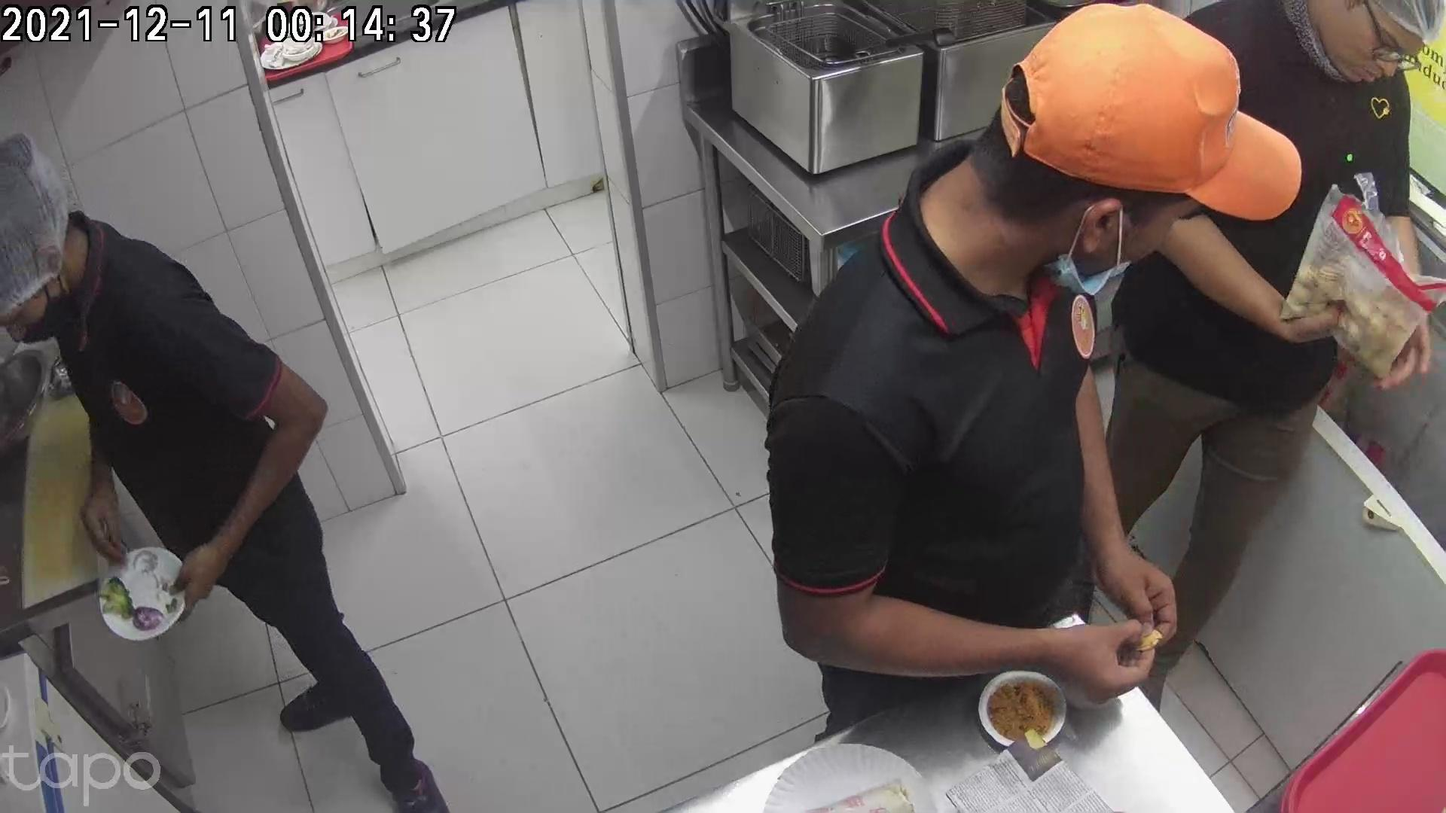gloves: (890, 628, 997, 749)
no_gloves: (1028, 592, 1115, 719)
